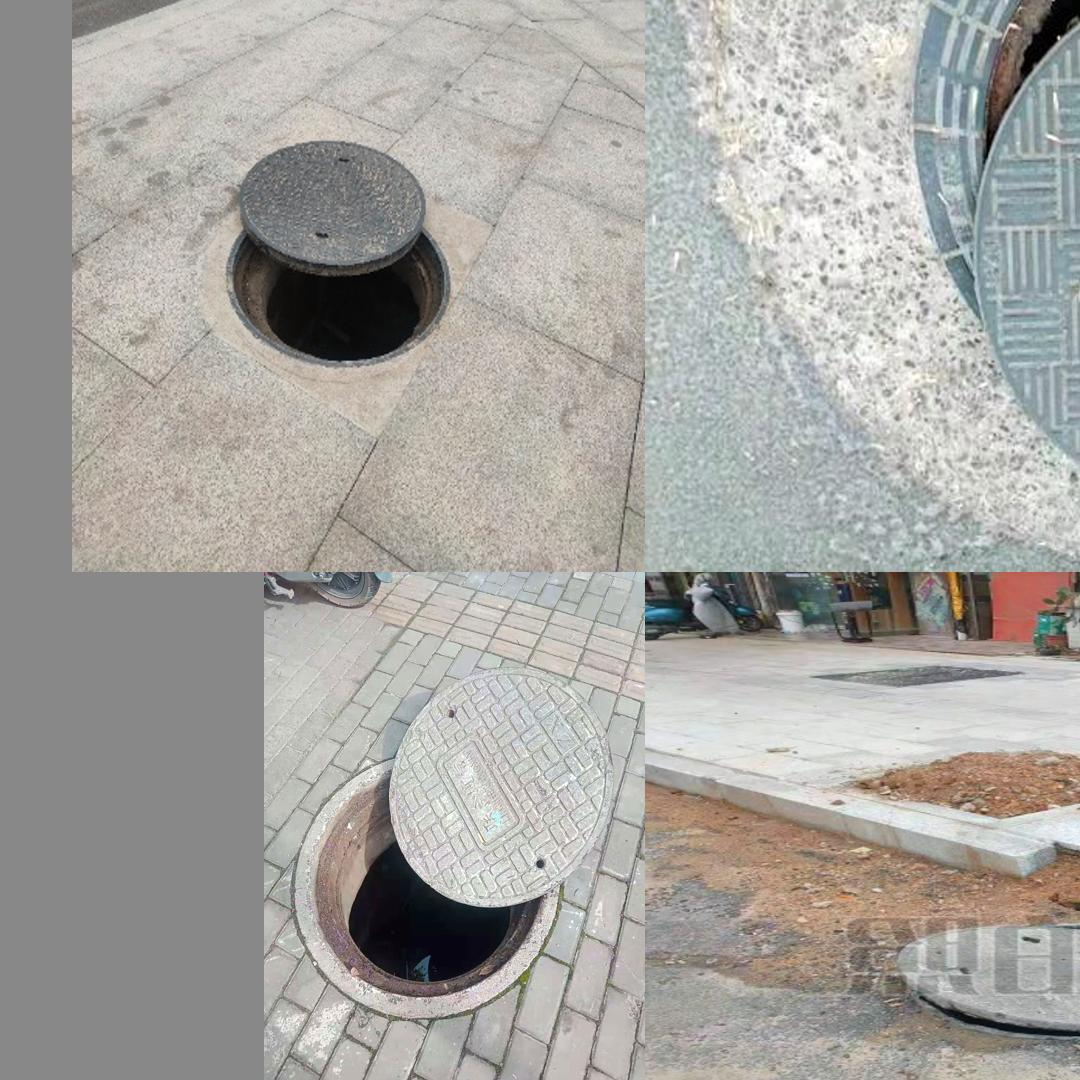uncovered: (840, 0, 1080, 502), (281, 670, 616, 1007), (226, 139, 451, 367), (898, 920, 1080, 1039)
